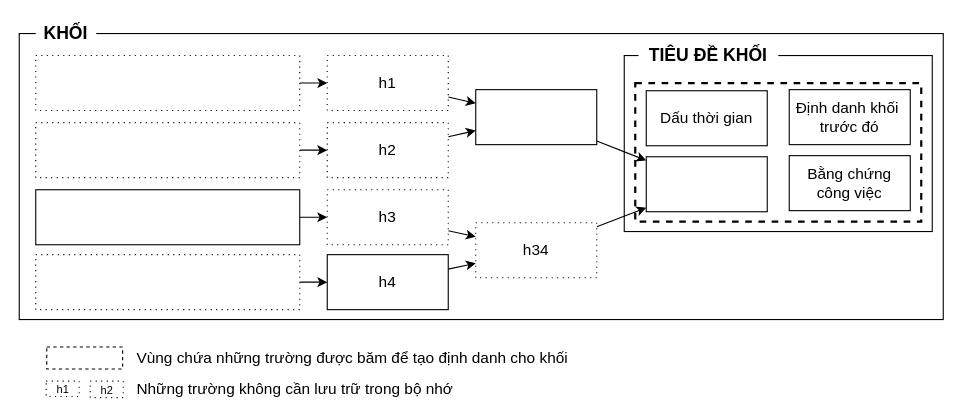
The diagram is 963 pixels wide and 418 high, and some of its shapes have lost their labels. Each missing label, with the centre of its shape:
"Giao dịch 1" goes at (x=167, y=82).
"Giao dịch 2" goes at (x=167, y=150).
"Giao dịch 3" goes at (x=167, y=217).
"Giao dịch 4" goes at (x=167, y=282).
"h12" goes at (x=536, y=117).
"h1234" goes at (x=706, y=184).
